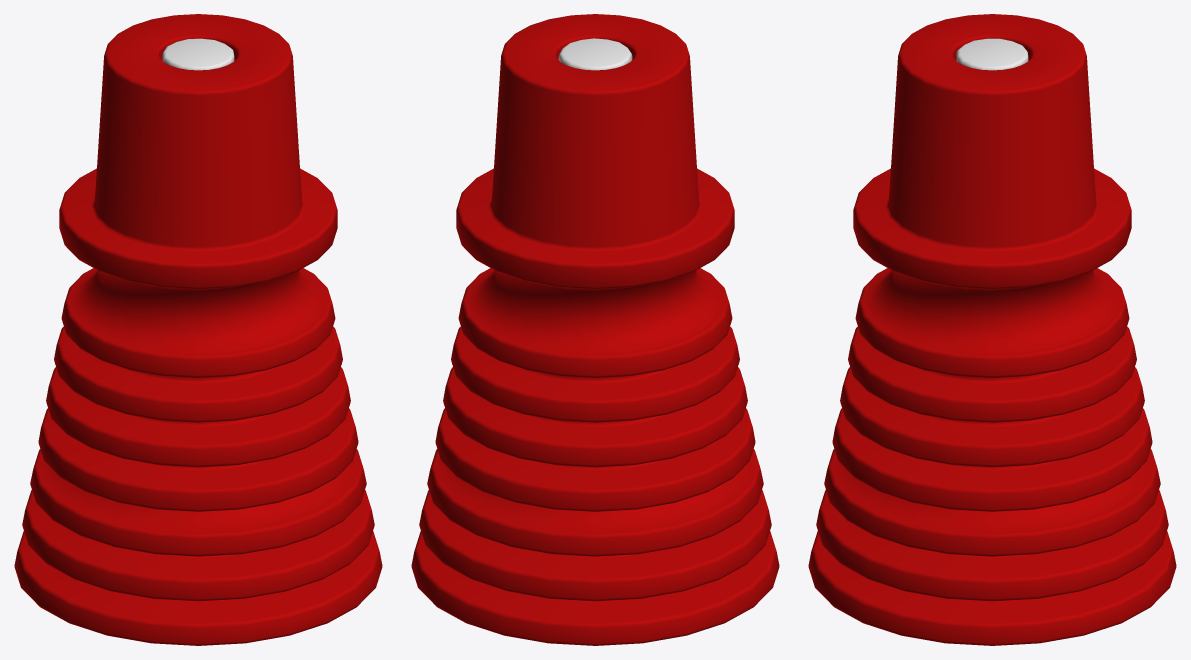
The model's file is Model - Plastic - Concentric Fin - 1.125in.fbx.
3 renders of one model, left to right at view 1: azimuth 30°, elevation 25°; view 2: azimuth 150°, elevation 25°; view 3: azimuth 270°, elevation 25°, orthographic.
Parts seen in each view (by area): view 1: Post - Plastic - Concentric Fin - 1 1/8"; view 2: Post - Plastic - Concentric Fin - 1 1/8"; view 3: Post - Plastic - Concentric Fin - 1 1/8".
Part boxes in pixels (box(x1,y1,x2,y2)): Post - Plastic - Concentric Fin - 1 1/8": box(14, 14, 382, 645); Post - Plastic - Concentric Fin - 1 1/8": box(411, 14, 779, 645); Post - Plastic - Concentric Fin - 1 1/8": box(808, 14, 1176, 645).
Bounding box in the file's own units: 1.84 × 2.86 × 1.84.
